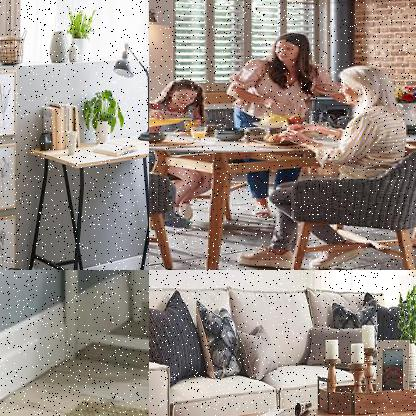table: (149, 118, 415, 269), (23, 127, 148, 269), (62, 270, 148, 383)
